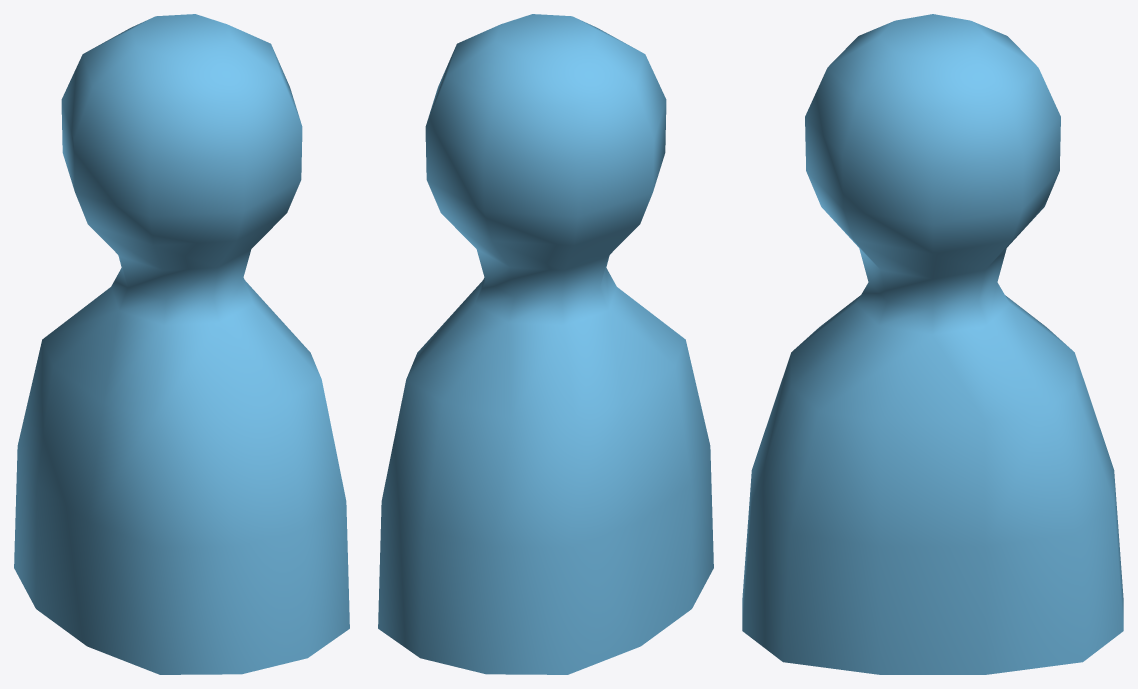
Rendered from Pawn_Blue.fbx.
3 renders of one model, left to right at view 1: azimuth 30°, elevation 25°; view 2: azimuth 150°, elevation 25°; view 3: azimuth 270°, elevation 25°, orthographic. The views are drawn at different scales.
Visible parts, largest first — view 1: Pawn_Blue; view 2: Pawn_Blue; view 3: Pawn_Blue.
Boxes of the visible parts, <box> form: Pawn_Blue: <box>14,14,349,674</box>; Pawn_Blue: <box>378,14,713,674</box>; Pawn_Blue: <box>742,14,1123,674</box>.
Size of the model in its own units: 63.06 by 141 by 84.16.
